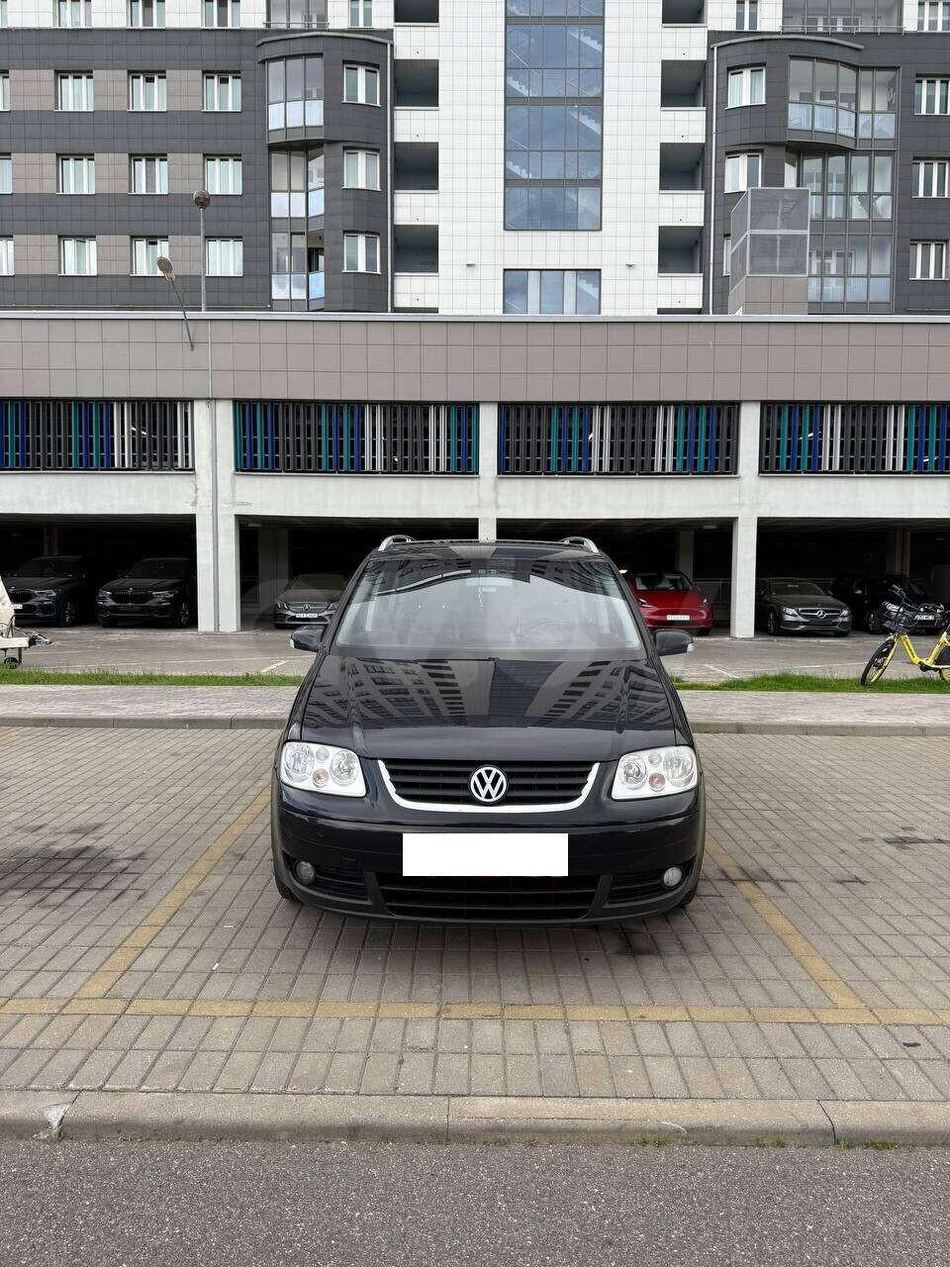Touran_2003-2006: (272, 539, 714, 926)
